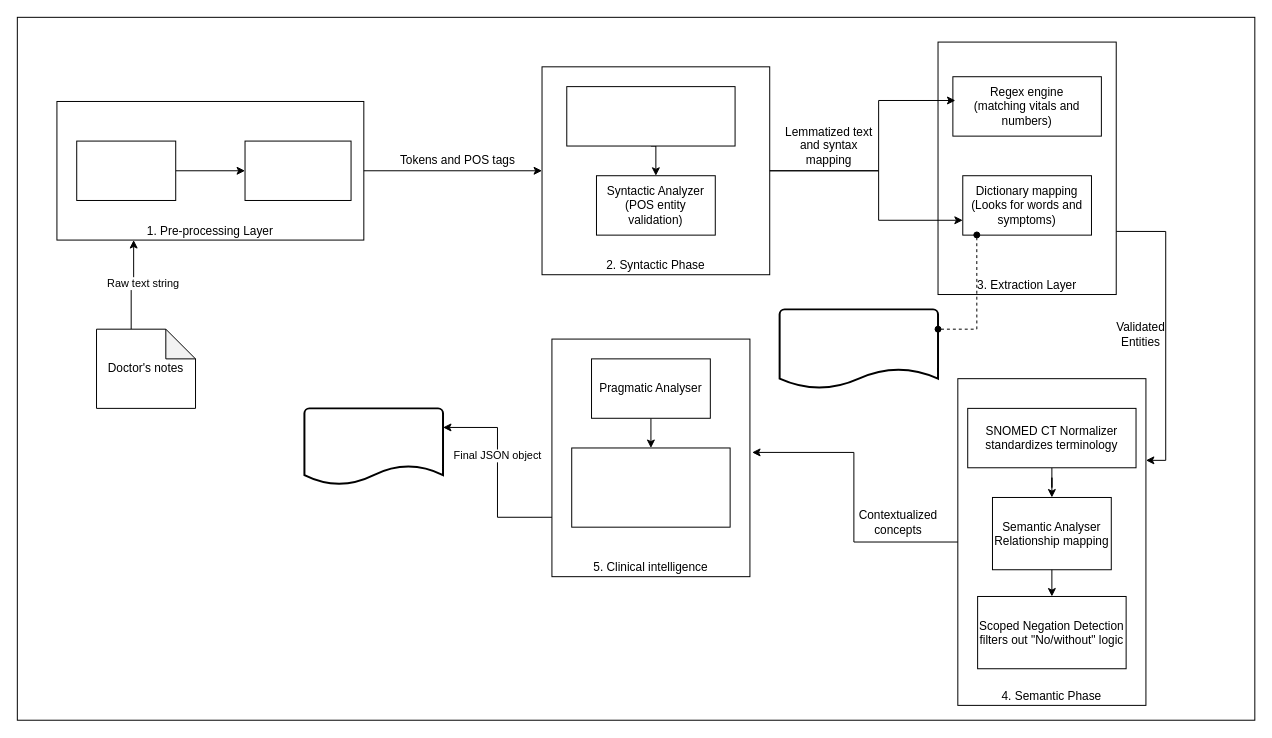
This 1272x738 diagram has some shape labels left out. Here are the shapes that lost their labels. From the top down, the centre of each, then its label:
At (650,116): "Morphological Analyser (word simplification & matching)".
At (126,170): "Tokenization".
At (297,170): "Part-of-Speech Tagging".
At (858,348): "OpenEHR Dictionary marker_dictionary.json".
At (373,446): "Structured json data file".
At (650,487): "Derivation engine Rule Based guesses eg. High WBC = Infection".
